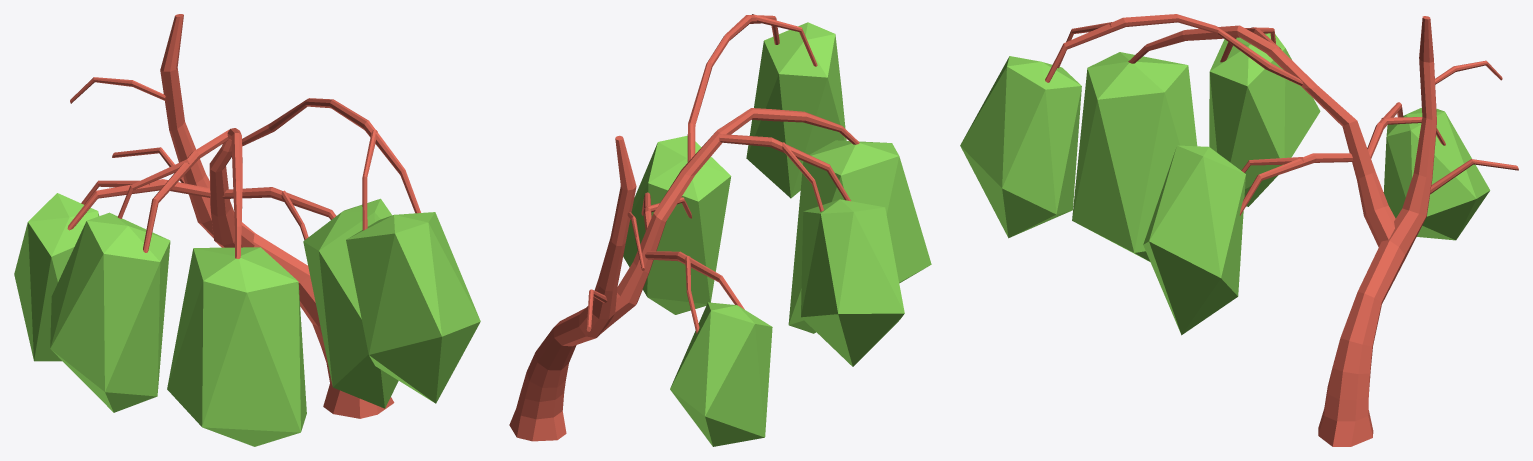
Rendered from Tree8_summer.FBX.
3 views of the same model, side by side, from view 1: azimuth 30°, elevation 25°; view 2: azimuth 150°, elevation 25°; view 3: azimuth 270°, elevation 25° (orthographic). The views are drawn at different scales.
Parts seen in each view (by area): view 1: tree6; view 2: tree6; view 3: tree6.
Part boxes in pixels (x1,y1,x2,y2): tree6: [14, 14, 480, 446]; tree6: [509, 14, 931, 446]; tree6: [960, 14, 1518, 446].
Size of the model in its own units: 4.57 by 4.52 by 6.25.
